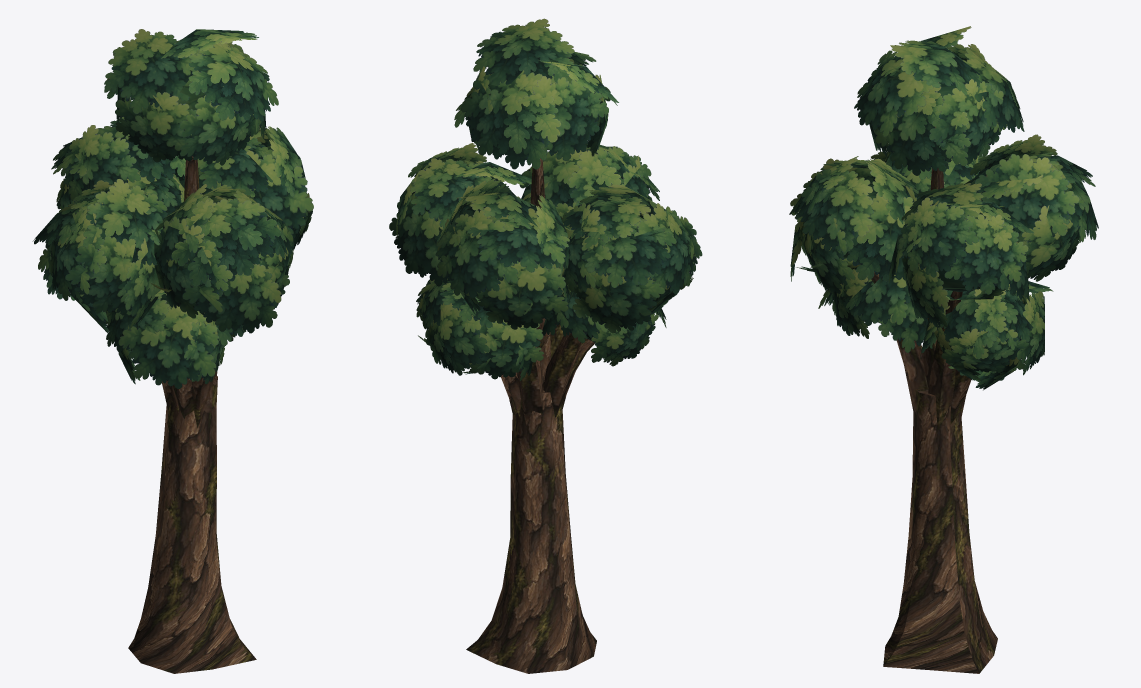
The model's file is tree_hill_oak.glb.
3 views of the same model, side by side, from view 1: azimuth 30°, elevation 25°; view 2: azimuth 150°, elevation 25°; view 3: azimuth 270°, elevation 25° (orthographic). The views are drawn at different scales.
Parts seen in each view (by area): view 1: tree_hill_oak; view 2: tree_hill_oak; view 3: tree_hill_oak.
Boxes of the visible parts, x1,y1,x2,y2 form: tree_hill_oak: (32,29,313,673); tree_hill_oak: (389,18,702,673); tree_hill_oak: (789,26,1098,673).
Size of the model in its own units: 3.25 by 6.04 by 3.37.
2 materials, 2 textured.
